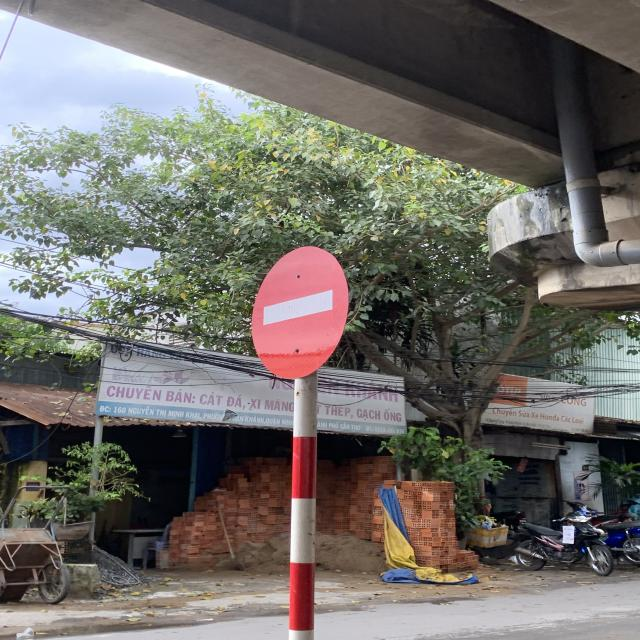Cam_Di_Nguoc_Chieu: (250, 246, 346, 379)
